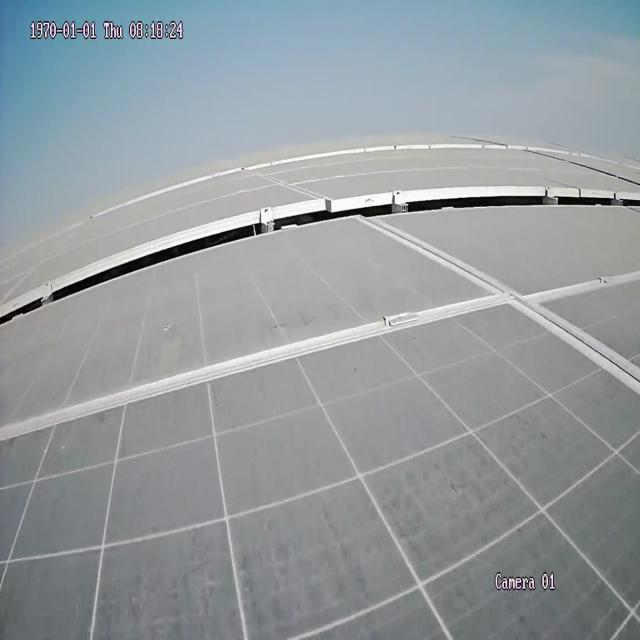interior panel: (3, 222, 640, 443)
outher panel: (0, 193, 634, 320)
